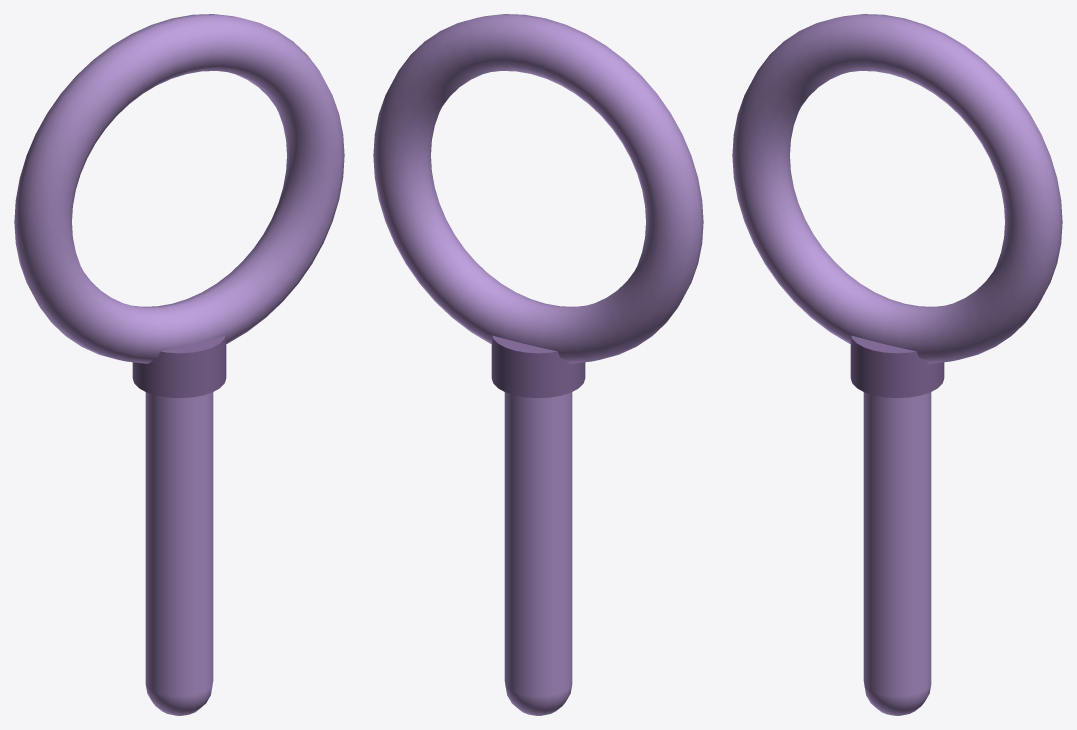
File: bubble-wand.glb
3 renders of one model, left to right at view 1: azimuth 30°, elevation 25°; view 2: azimuth 150°, elevation 25°; view 3: azimuth 330°, elevation 25°, orthographic.
Parts seen in each view (by area): view 1: Wand_ring, Wand_handle, Wand_collar; view 2: Wand_ring, Wand_handle, Wand_collar; view 3: Wand_ring, Wand_handle, Wand_collar.
Boxes of the visible parts, bbox=[...] form: Wand_ring: bbox=[14, 14, 344, 363]; Wand_handle: bbox=[145, 392, 213, 715]; Wand_collar: bbox=[132, 335, 226, 398]; Wand_ring: bbox=[373, 14, 703, 363]; Wand_handle: bbox=[504, 392, 572, 715]; Wand_collar: bbox=[491, 335, 585, 398]; Wand_ring: bbox=[732, 14, 1062, 363]; Wand_handle: bbox=[863, 392, 931, 715]; Wand_collar: bbox=[850, 335, 944, 398].
Size of the model in its own units: 0.414 by 0.85 by 0.104.
